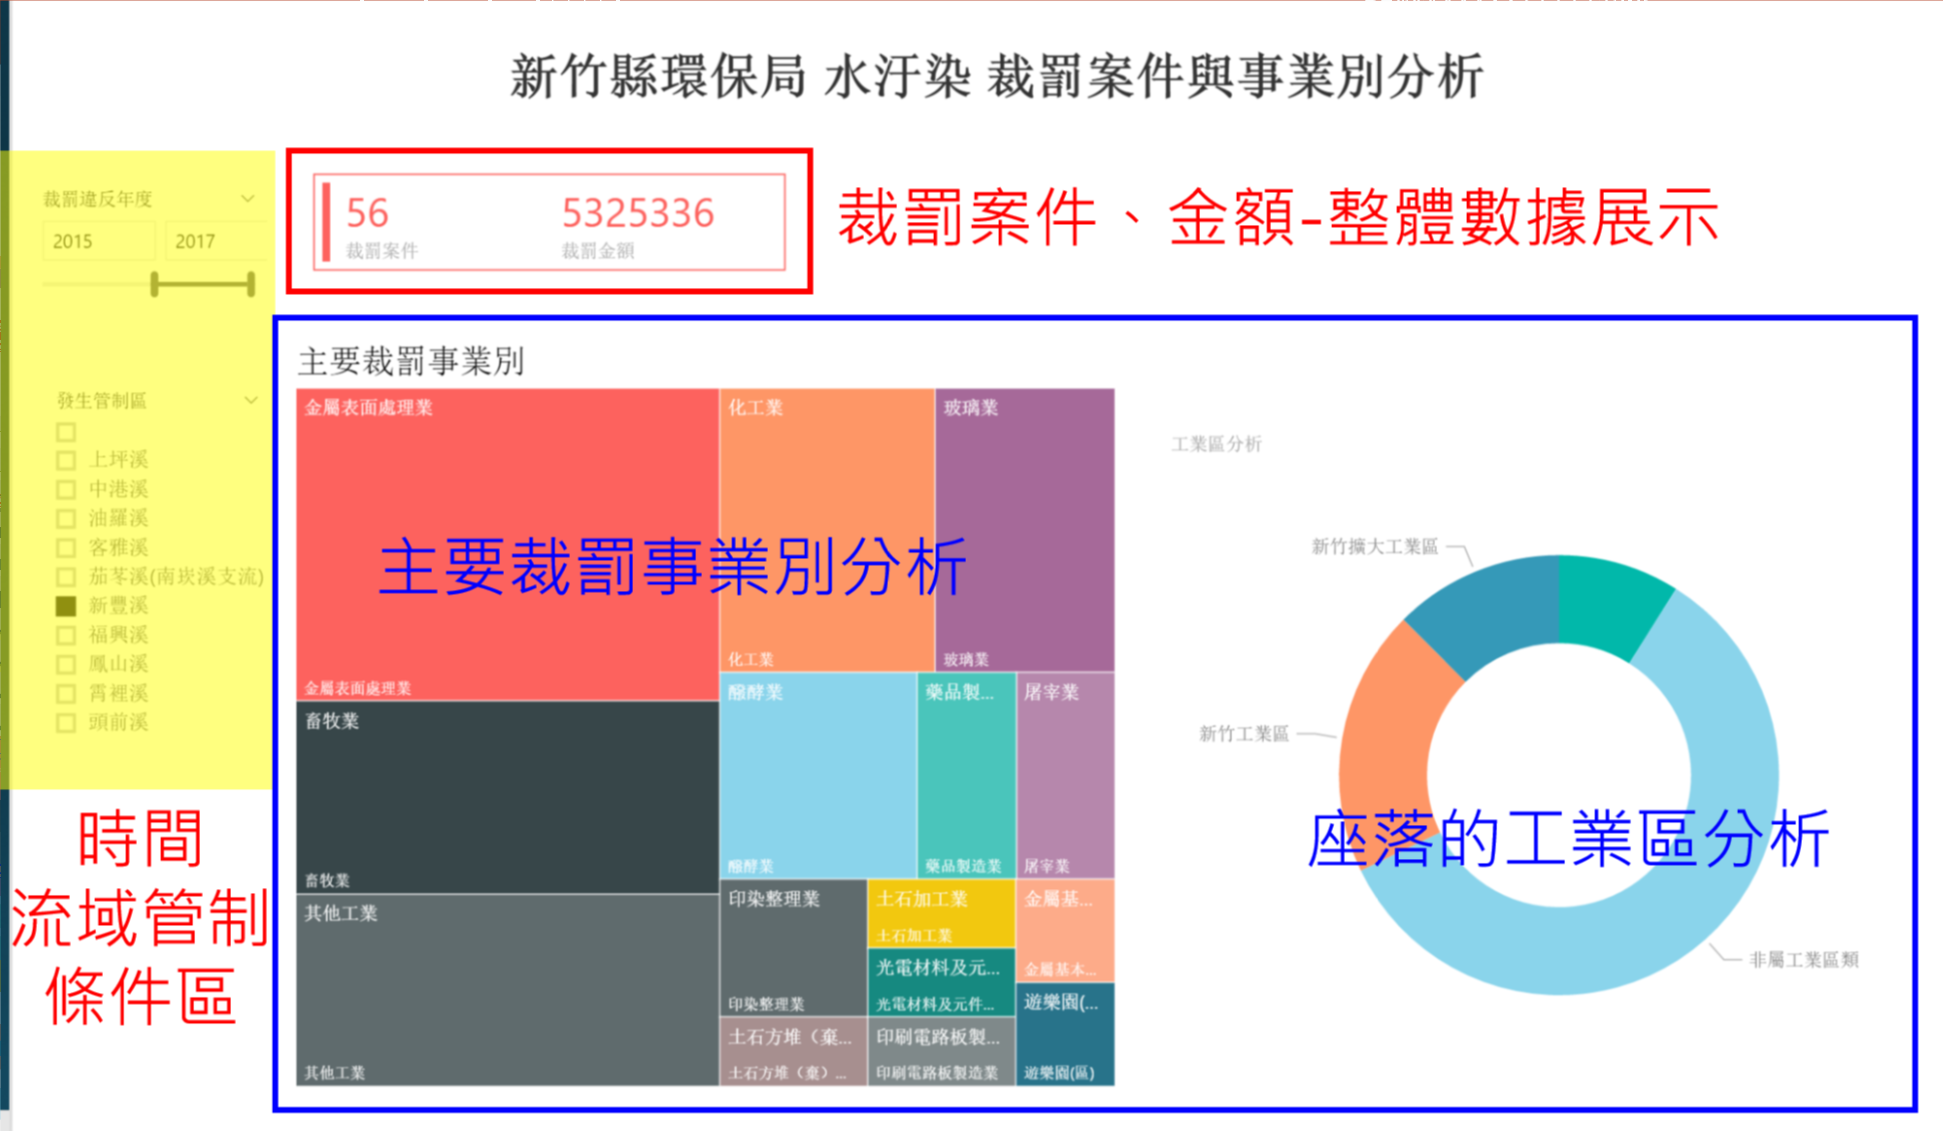

This screenshot's page, from the dashboard's own definition file:
{"tool":"powerbi","page":{"name":"2.1水汙染_裁罰案件事業別分析","canvas":[1280,720],"ordinal":0},"visuals":[{"type":"slicer","fields":{"Values":["環保署_裁罰資料_水汙染.違反時間_年"]},"box":[6.7,94.1,164.6,98.5],"z":1},{"type":"slicer","fields":{"Values":["環保署_裁罰資料_水汙染.流域別"]},"box":[15.7,225.1,157.9,292.3],"z":2},{"type":"textbox","box":[6.7,0,1271.9,63.4],"z":3},{"type":"treemap","fields":{"Details":["環保署_裁罰資料_水汙染.事業別"],"Values":["CountNonNull(環保署_裁罰資料_水汙染.事業別)"],"Group":["環保署_裁罰資料_水汙染.事業別"]},"box":[180.7,198.3,543.6,493.7],"z":5},{"type":"donutChart","fields":{"Category":["環保署_裁罰資料_水汙染.所屬工業區"],"Y":["CountNonNull(環保署_裁罰資料_水汙染.所屬工業區)"]},"box":[751.3,259,516.6,434.3],"z":6},{"type":"multiRowCard","fields":{"Values":["環保署_裁罰資料_水汙染.事業名稱","環保署_裁罰資料_水汙染.裁罰金額"]},"box":[191.3,86.6,318.8,88.3],"z":7}]}

Visuals, with their boxes on the page's 1280x720 design canvas (x1, y1, x2, y2). These are canvas units, not pixel positions in the 1943x1131 screenshot, which may show the page scaled, cropped or inside an application window:
slicer - 環保署_裁罰資料_水汙染.違反時間_年: [left=7, top=94, right=171, bottom=193]
slicer - 環保署_裁罰資料_水汙染.流域別: [left=16, top=225, right=174, bottom=517]
textbox: [left=7, top=0, right=1279, bottom=63]
treemap - 環保署_裁罰資料_水汙染.事業別 x CountNonNull(環保署_裁罰資料_水汙染.事業別): [left=181, top=198, right=724, bottom=692]
donutChart - 環保署_裁罰資料_水汙染.所屬工業區 x CountNonNull(環保署_裁罰資料_水汙染.所屬工業區): [left=751, top=259, right=1268, bottom=693]
multiRowCard - 環保署_裁罰資料_水汙染.事業名稱 x 環保署_裁罰資料_水汙染.裁罰金額: [left=191, top=87, right=510, bottom=175]
